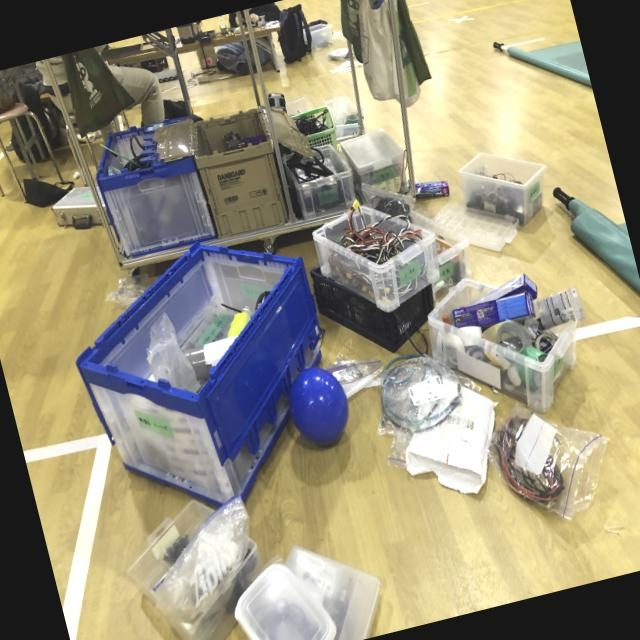blue_ball: (282, 360, 356, 451)
